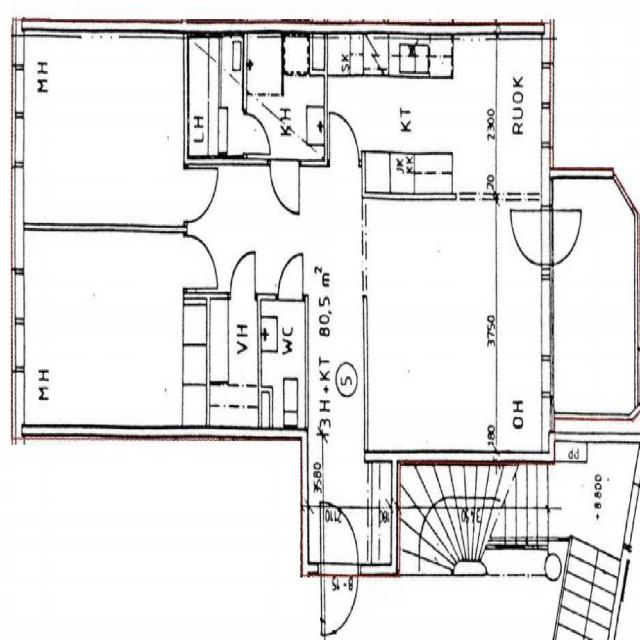door: (321, 563, 358, 640), (321, 497, 358, 574), (542, 210, 584, 264), (511, 210, 553, 264), (184, 167, 218, 222), (184, 234, 217, 288), (330, 108, 359, 166), (270, 160, 299, 217), (230, 249, 255, 300), (278, 250, 303, 300), (242, 114, 268, 152)
